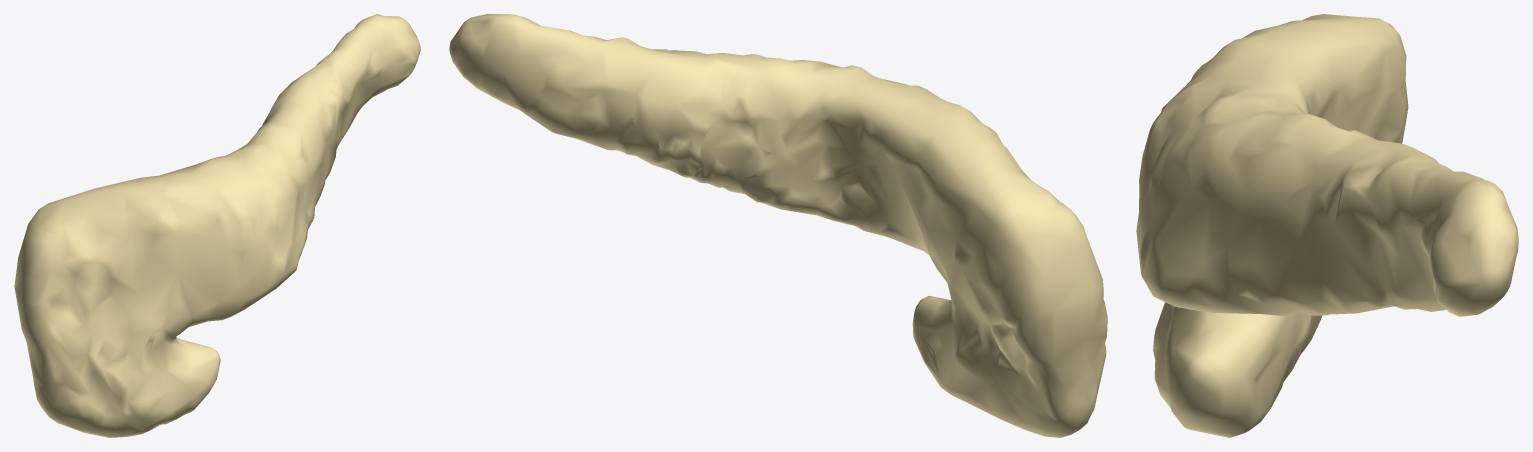
File: pancreas.glb
3 views of the same model, side by side, from view 1: azimuth 30°, elevation 25°; view 2: azimuth 150°, elevation 25°; view 3: azimuth 270°, elevation 25° (orthographic). The views are drawn at different scales.
Parts seen in each view (by area): view 1: FJ1895_Pancreas; view 2: FJ1895_Pancreas; view 3: FJ1895_Pancreas.
Part boxes in pixels (x1=…): FJ1895_Pancreas: x1=14, y1=14, x2=420, y2=437; FJ1895_Pancreas: x1=449, y1=14, x2=1107, y2=437; FJ1895_Pancreas: x1=1136, y1=14, x2=1518, y2=437.
Bounding box in the file's own units: 0.1206 × 0.0737 × 0.051.
